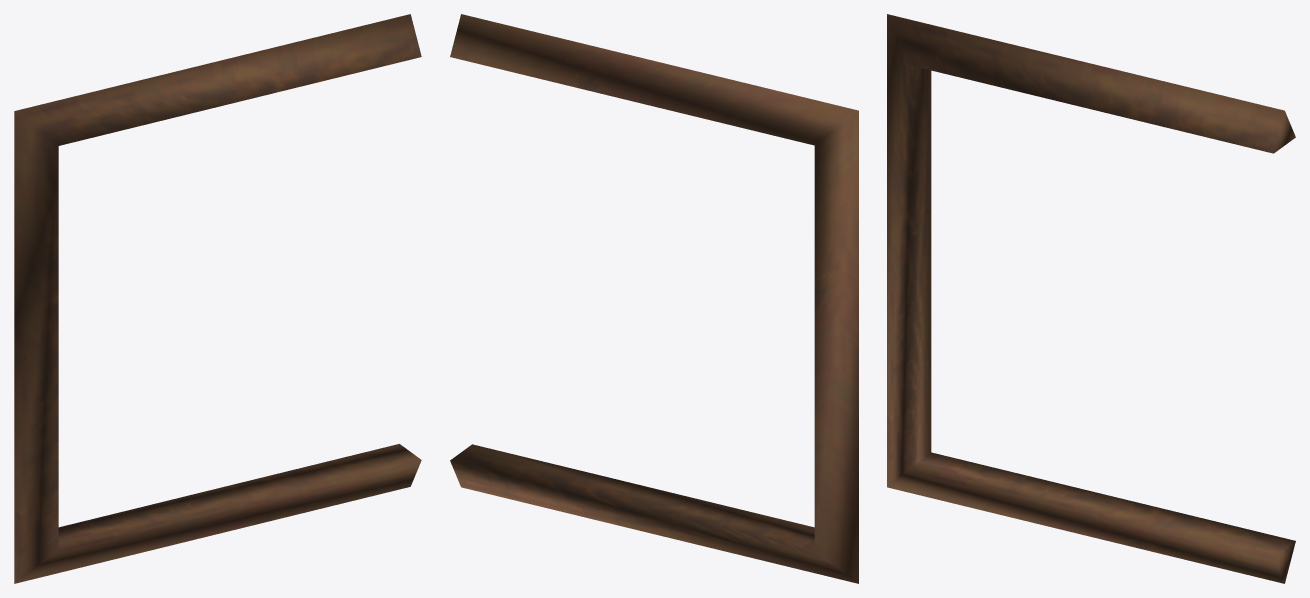
Rendered from INST_SWORDLIGHT_BRKT.fbx.
The picture shows the model from 3 angles, left to right: view 1: azimuth 30°, elevation 25°; view 2: azimuth 150°, elevation 25°; view 3: azimuth 330°, elevation 25°; orthographic projection.
Parts seen in each view (by area): view 1: INST_SWORDLIGHT_BRKT; view 2: INST_SWORDLIGHT_BRKT; view 3: INST_SWORDLIGHT_BRKT.
Boxes of the visible parts, left/top/right/bottom form: INST_SWORDLIGHT_BRKT: left=14, top=14, right=421, bottom=583; INST_SWORDLIGHT_BRKT: left=450, top=14, right=858, bottom=583; INST_SWORDLIGHT_BRKT: left=887, top=14, right=1295, bottom=583.
Size of the model in its own units: 15463 by 17599 by 1529.
Materials: 1 (1 with a texture image).
